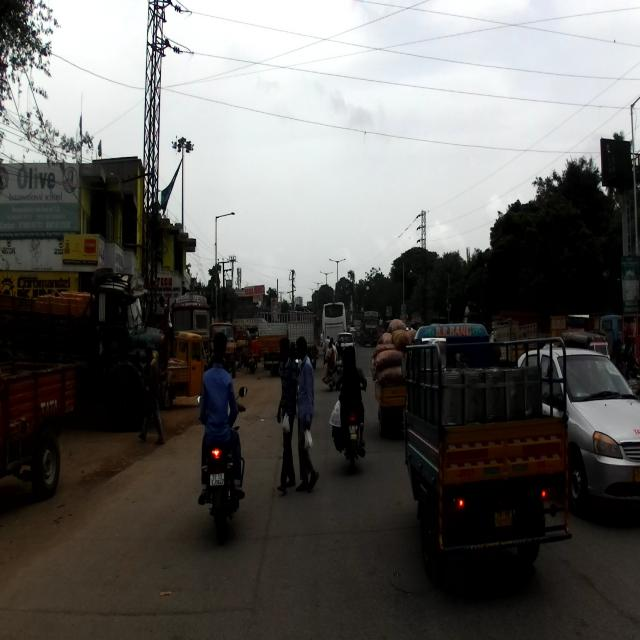Car_TATA: (516, 346, 640, 516)
autorickshaw: (399, 315, 571, 588)
motorcycle: (195, 385, 247, 548), (335, 380, 367, 470)
truck: (0, 269, 170, 433), (0, 312, 77, 500)
